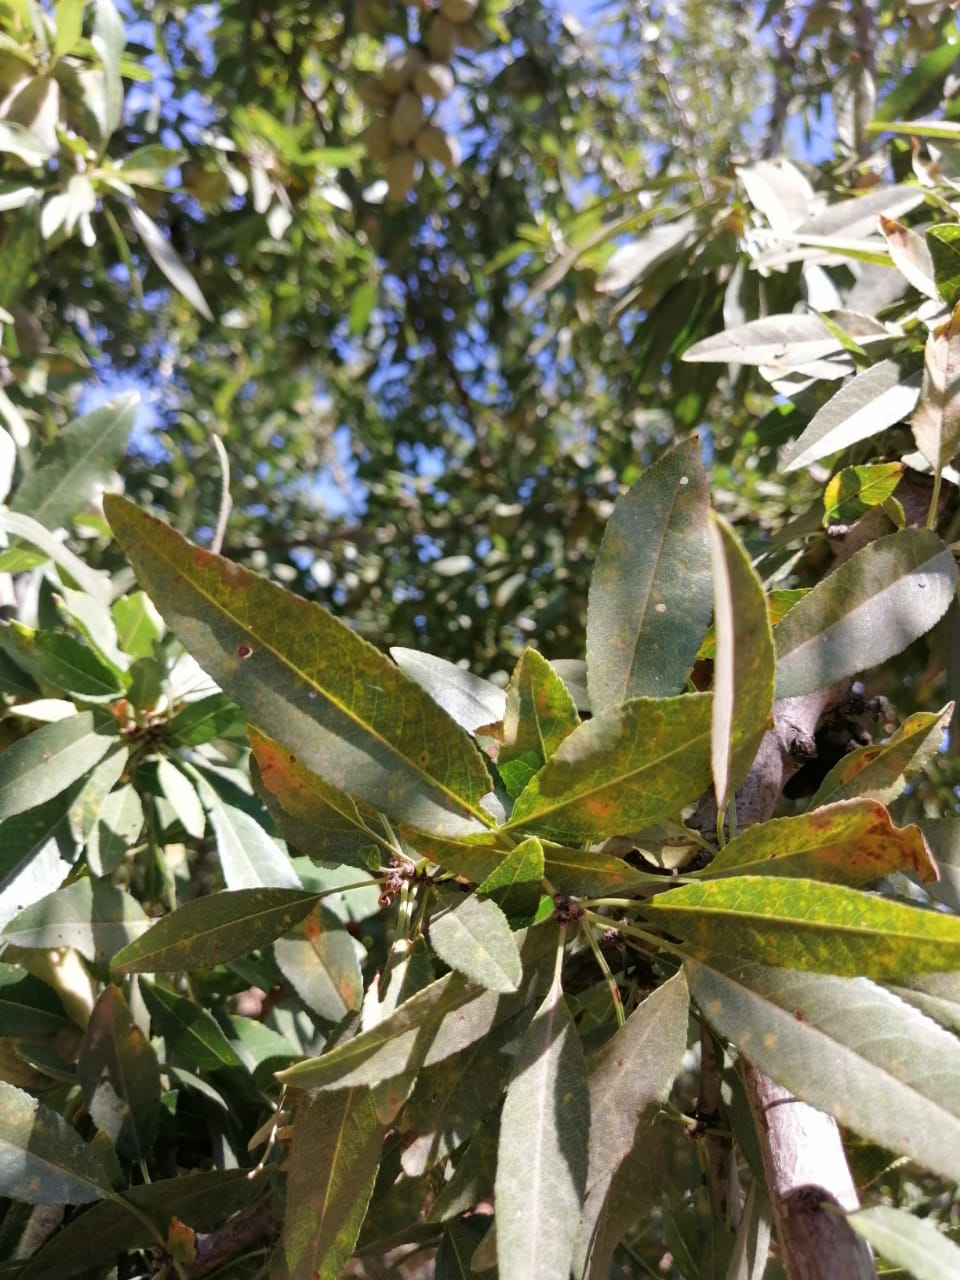rouille: (101, 491, 503, 840), (675, 938, 960, 1177), (702, 795, 941, 885), (107, 888, 325, 977), (269, 903, 367, 1019)
